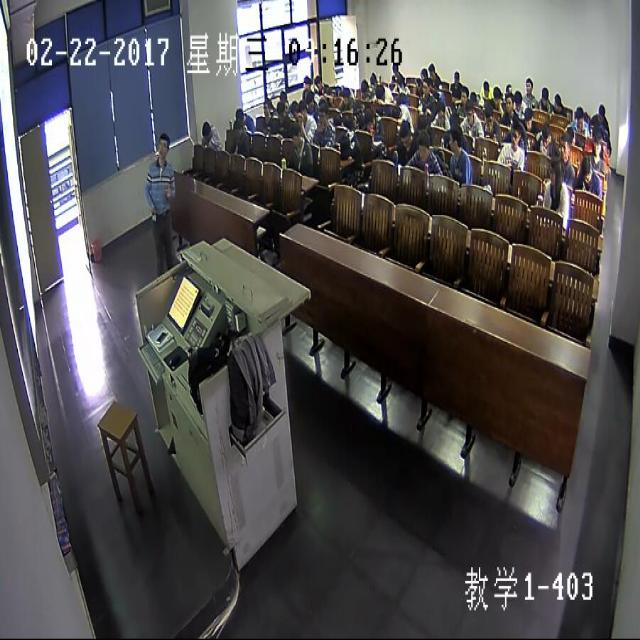person: (416, 130, 430, 160), (398, 118, 411, 150), (448, 123, 460, 156), (580, 154, 593, 184), (546, 160, 560, 187), (156, 132, 168, 160), (558, 134, 570, 161), (290, 122, 302, 148), (316, 102, 328, 126), (362, 108, 374, 131), (508, 122, 520, 145), (539, 123, 551, 146), (446, 111, 459, 132), (275, 101, 287, 123), (592, 134, 603, 158), (416, 111, 428, 132), (464, 98, 474, 123), (434, 97, 445, 119), (563, 124, 575, 144), (200, 120, 211, 140), (339, 84, 350, 104), (337, 132, 349, 150), (523, 106, 532, 130), (491, 84, 500, 107), (232, 118, 242, 138), (290, 100, 300, 120), (233, 106, 244, 124), (483, 106, 492, 127), (359, 77, 368, 97), (458, 86, 468, 104), (480, 78, 490, 96), (513, 90, 522, 110), (575, 106, 583, 128), (596, 102, 605, 121), (304, 91, 314, 108), (261, 98, 270, 116), (524, 76, 533, 94), (298, 100, 306, 120), (553, 92, 561, 112), (373, 82, 382, 99), (539, 87, 548, 104), (420, 76, 428, 95), (504, 92, 512, 110), (301, 76, 311, 90), (504, 80, 512, 97), (468, 88, 477, 103), (313, 73, 321, 89), (278, 88, 286, 103), (595, 121, 603, 136), (396, 76, 404, 90), (391, 102, 398, 117), (428, 64, 435, 79), (452, 69, 459, 83), (368, 73, 376, 85), (390, 62, 398, 74), (420, 68, 426, 79)
